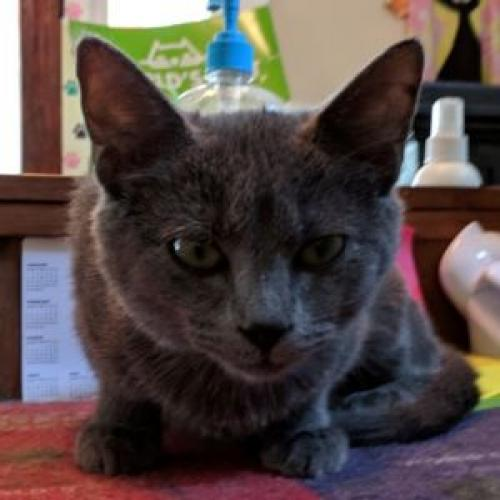rblue: (76, 32, 440, 394)
